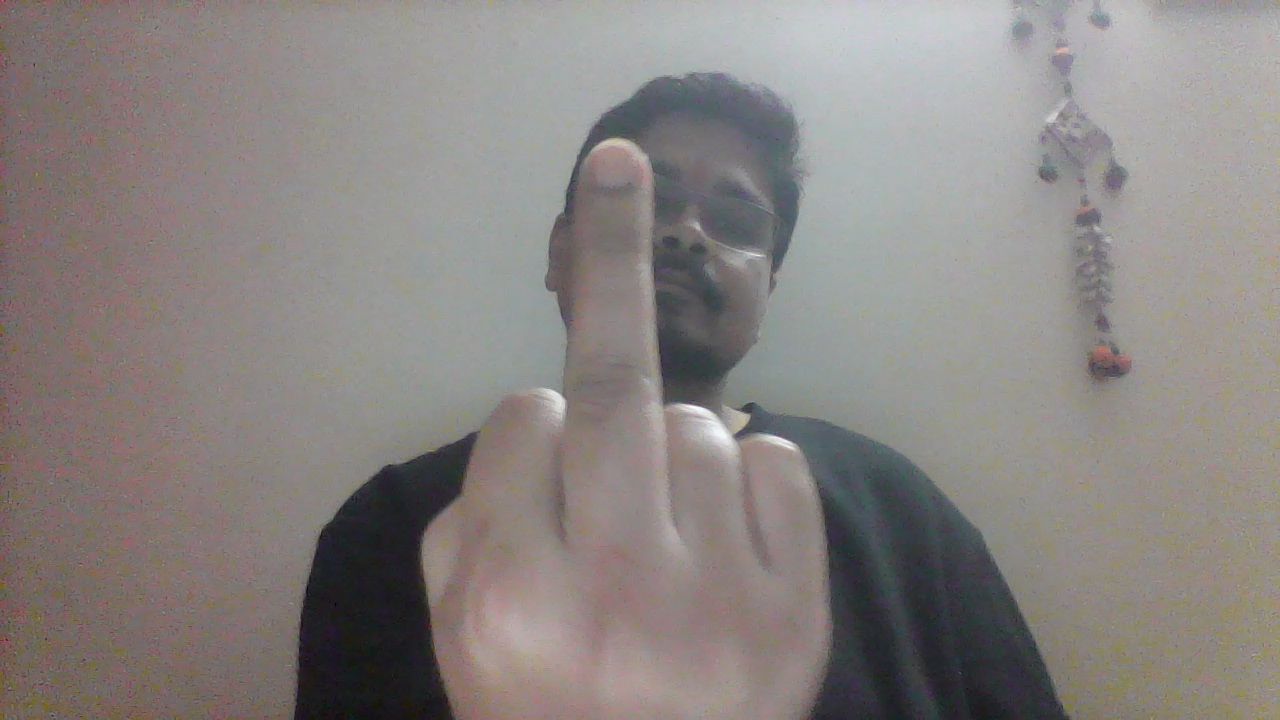Fuck Off: (421, 138, 836, 711)
